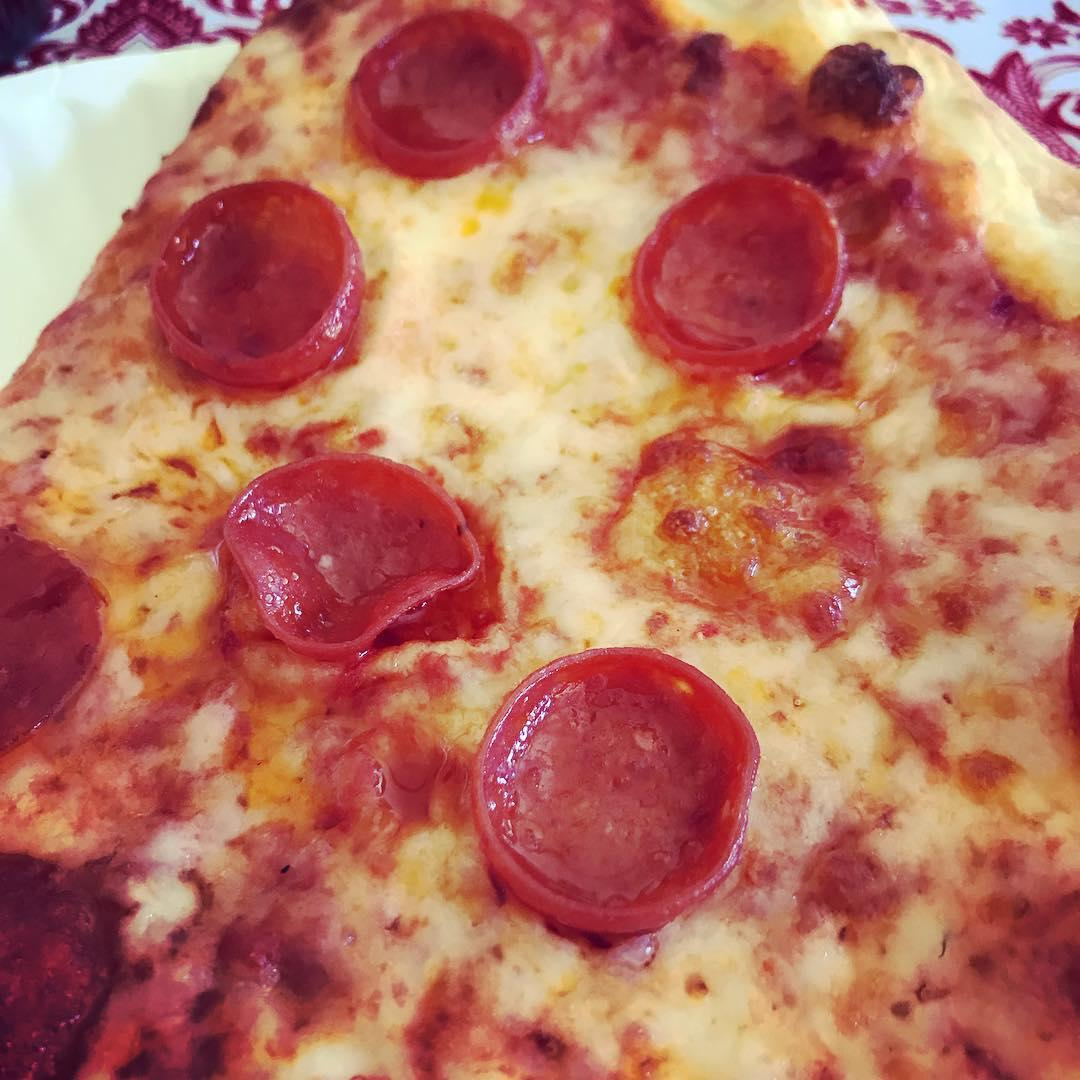Pepperoni: (475, 652, 770, 942), (217, 452, 482, 657), (153, 175, 358, 387), (633, 177, 840, 368), (342, 13, 552, 182), (0, 528, 122, 757)
Pizza: (0, 0, 1080, 1080)
